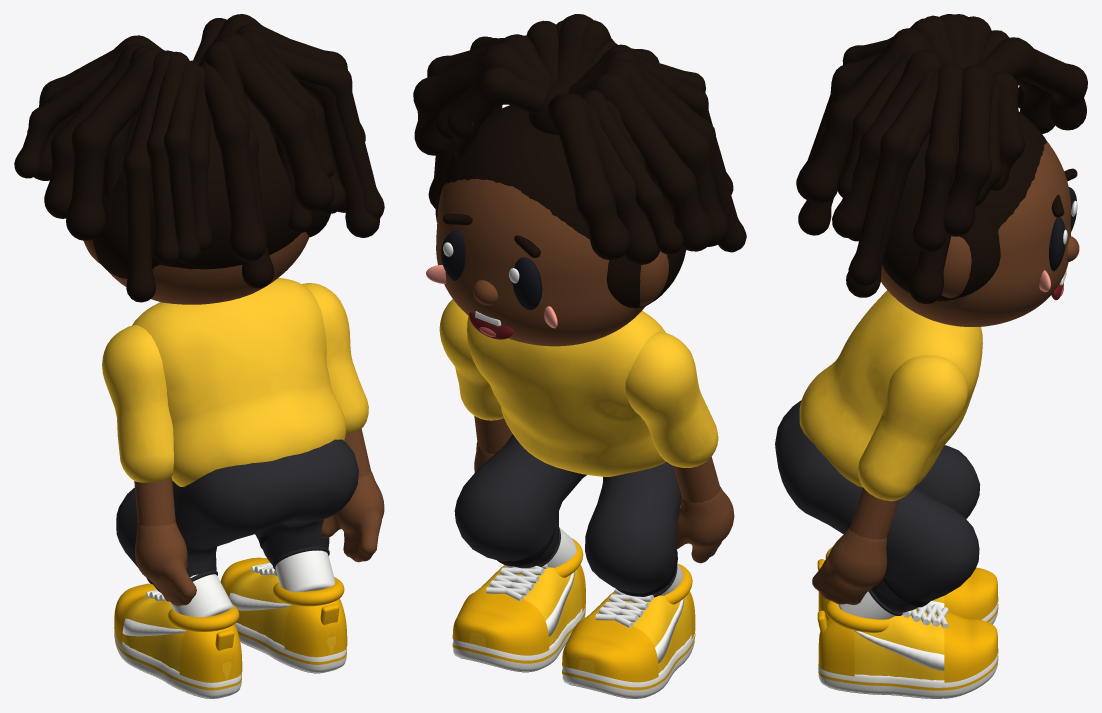
Rendered from YellowRider.fbx.
The picture shows the model from 3 angles, left to right: view 1: azimuth 30°, elevation 25°; view 2: azimuth 150°, elevation 25°; view 3: azimuth 270°, elevation 25°; orthographic projection. The views are drawn at different scales.
Parts seen in each view (by area): view 1: HeadMesh, BodyMesh, LegLMesh, LegRMesh, ArmLMesh, ArmRMesh; view 2: HeadMesh, LegRMesh, LegLMesh, BodyMesh, ArmLMesh, ArmRMesh; view 3: HeadMesh, LegRMesh, ArmRMesh, BodyMesh, LegLMesh.
Boxes of the visible parts, box(x1,y1,x2,y2) form: HeadMesh: box(14, 14, 384, 304); BodyMesh: box(132, 278, 345, 486); LegLMesh: box(114, 457, 306, 698); LegRMesh: box(220, 439, 358, 673); ArmLMesh: box(102, 325, 196, 606); ArmRMesh: box(302, 283, 384, 562); HeadMesh: box(413, 14, 746, 346); LegRMesh: box(452, 434, 586, 672); LegLMesh: box(562, 462, 695, 698); BodyMesh: box(467, 310, 666, 476); ArmLMesh: box(625, 331, 734, 563); ArmRMesh: box(439, 299, 512, 472); HeadMesh: box(796, 14, 1087, 326); LegRMesh: box(775, 414, 998, 698); ArmRMesh: box(812, 355, 967, 604); BodyMesh: box(799, 290, 982, 487); LegLMesh: box(775, 400, 998, 626).
Bounding box in the file's own units: 0.6824 × 1.35 × 0.6156.
